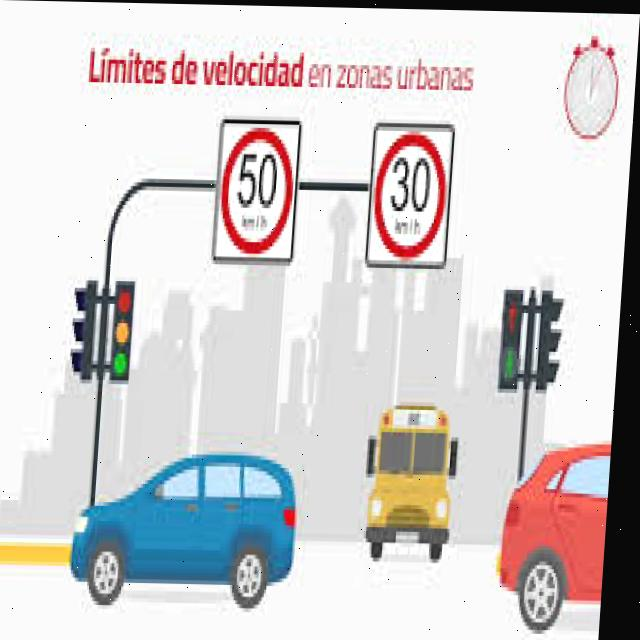Speed limit 30: (367, 114, 458, 268)
Speed limit 50: (214, 112, 307, 262)
